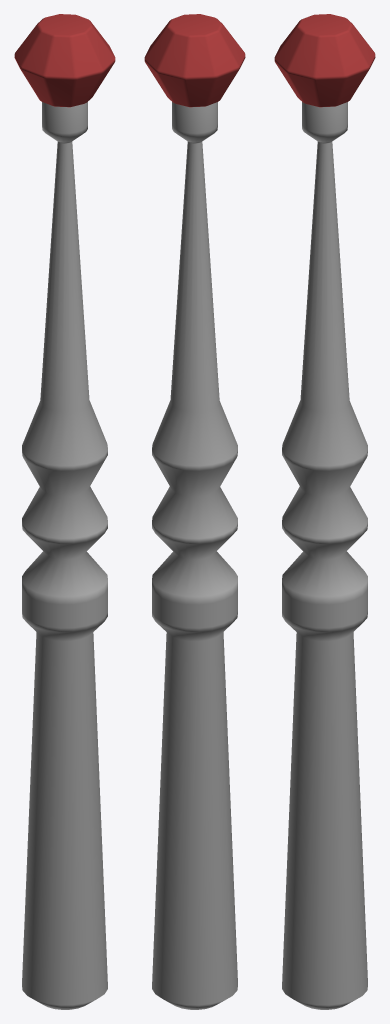
File: magic_control.fbx
The picture shows the model from 3 angles, left to right: view 1: azimuth 30°, elevation 25°; view 2: azimuth 150°, elevation 25°; view 3: azimuth 330°, elevation 25°; orthographic projection.
Parts seen in each view (by area): view 1: pCylinder3; view 2: pCylinder3; view 3: pCylinder3.
Boxes of the visible parts, x1,y1,x2,y2 form: pCylinder3: (14, 14, 115, 1009); pCylinder3: (144, 14, 245, 1009); pCylinder3: (274, 14, 375, 1009).
Bounding box in the file's own units: 1.05 × 11.16 × 1.01.
